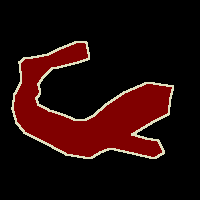tie: (12, 42, 173, 158)
